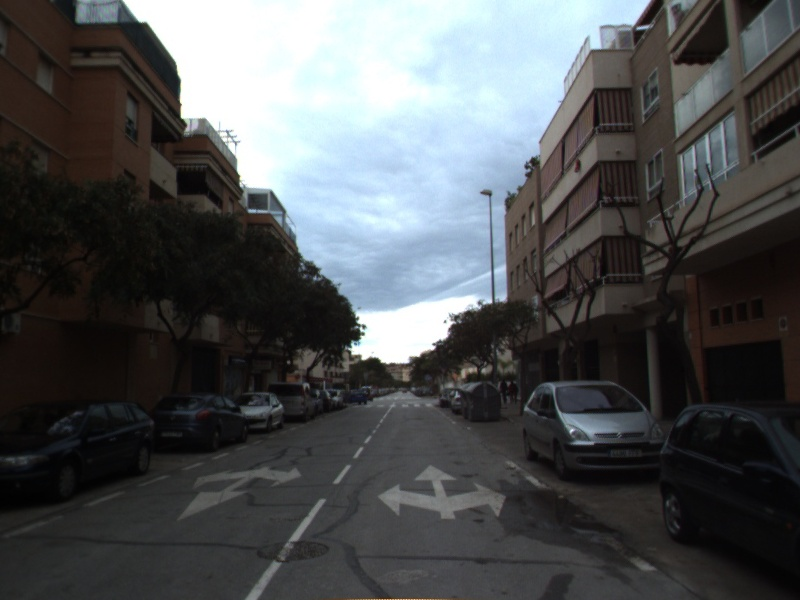STRAIGHT_LEFT_RIGHT: (375, 463, 509, 521)
